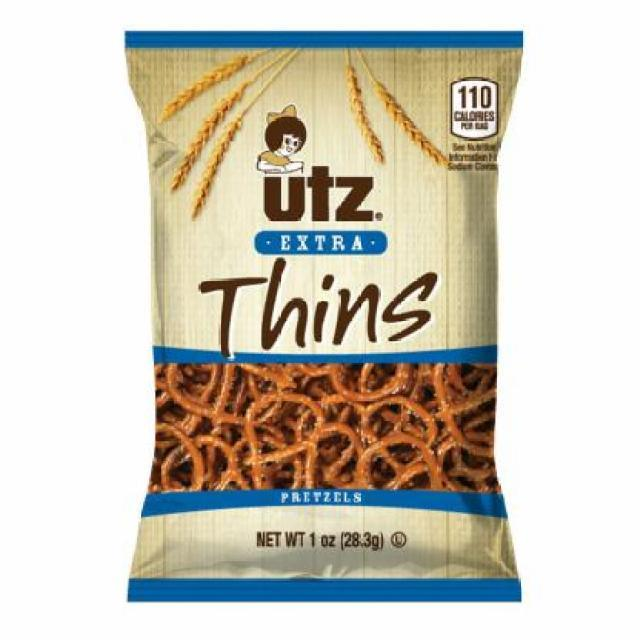Salatini: (114, 24, 528, 610)
